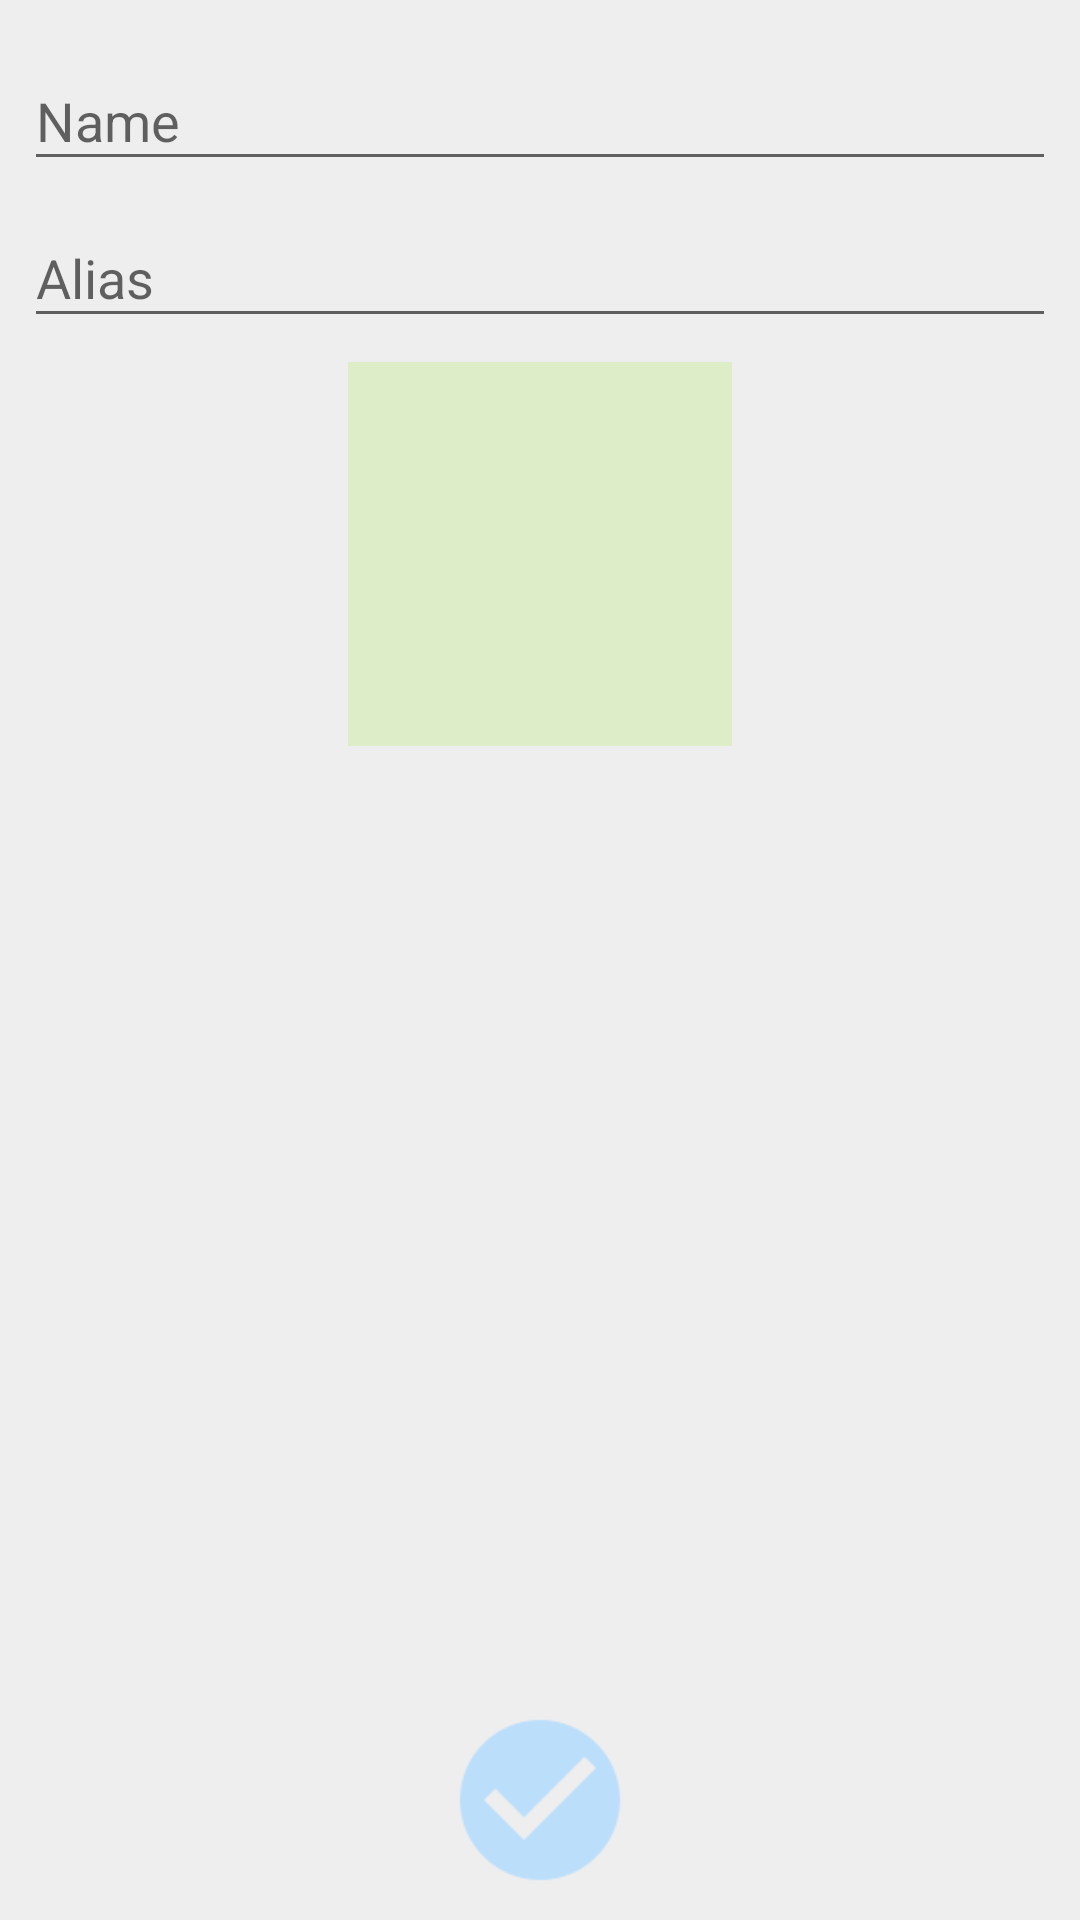

Where icons sit on this 1080px×1920px app screen, as (x1, y1, x2, y2):
check circle: (460, 1720, 620, 1880)
